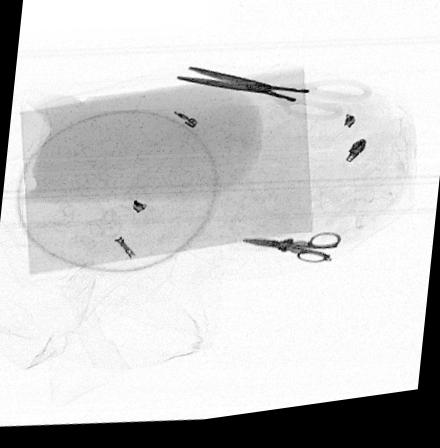Scissors: (173, 69, 373, 130), (240, 239, 343, 272)
